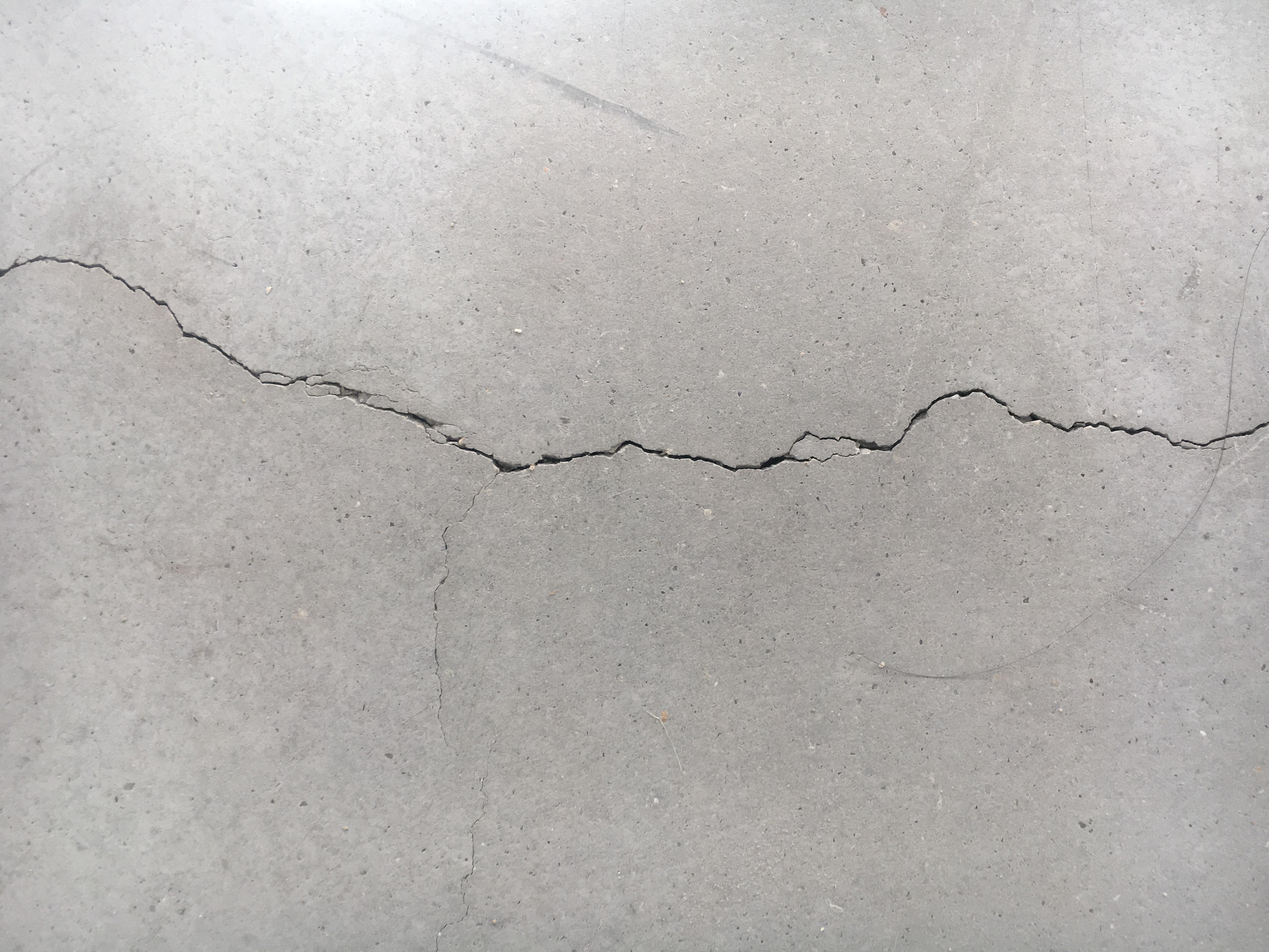Horizontal Settlement Crack: (3, 246, 1265, 479)
